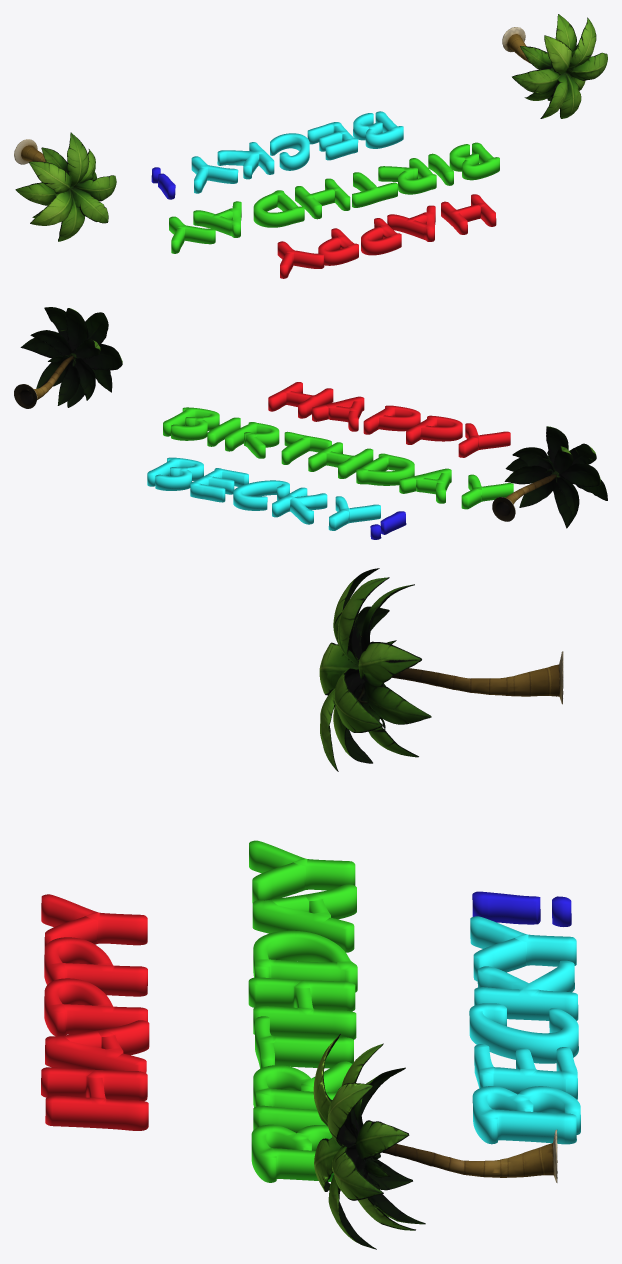
3 renders of one model, top to bottom at view 1: azimuth 30°, elevation 25°; view 2: azimuth 150°, elevation 25°; view 3: azimuth 270°, elevation 25°, orthographic. The views are drawn at different scales.
Parts seen in each view (by area): view 1: object; view 2: object; view 3: object.
Boxes of the visible parts, <box> form: object: <box>14,14,607,278</box>; object: <box>14,307,607,539</box>; object: <box>41,568,580,1249</box>.
Bounding box in the file's own units: 0.1626 × 0.0298 × 0.0654.
Materials: 5 (1 with a texture image).
